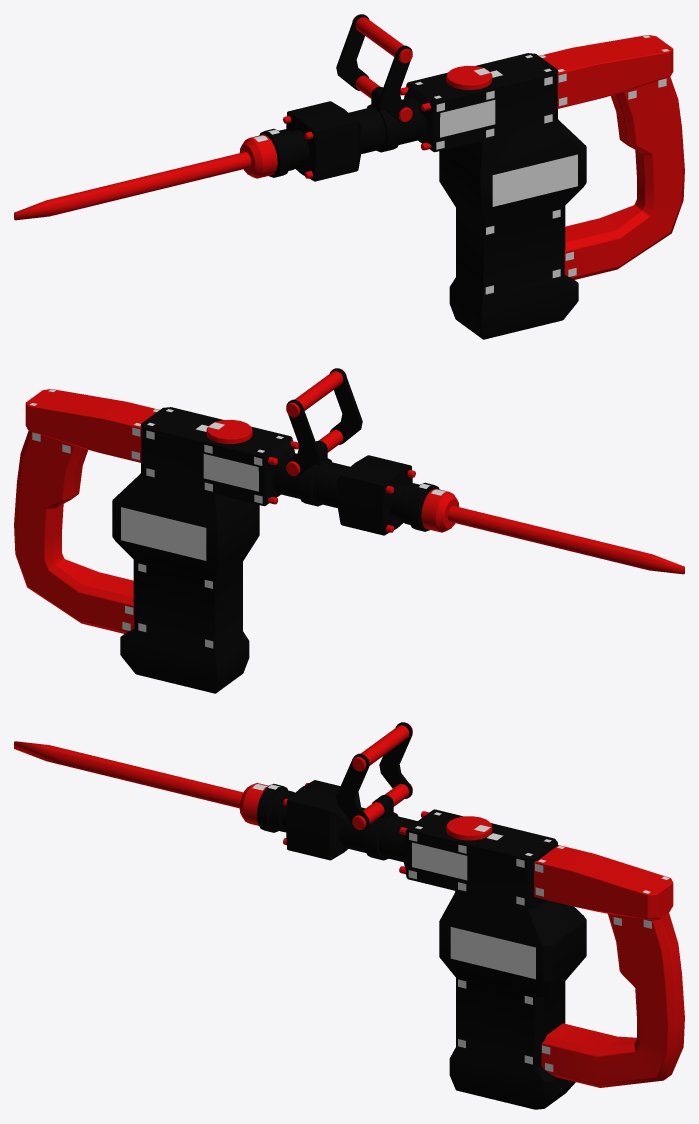
The model's file is hammerdrill-v2.glb.
3 renders of one model, top to bottom at view 1: azimuth 30°, elevation 25°; view 2: azimuth 150°, elevation 25°; view 3: azimuth 330°, elevation 25°, orthographic.
Parts seen in each view (by area): view 1: hammerdrill, hammerdrill_decals, hammerdrill_chiselflat; view 2: hammerdrill, hammerdrill_decals, hammerdrill_chiselflat; view 3: hammerdrill, hammerdrill_decals, hammerdrill_chiselflat.
Boxes of the visible parts, x1,y1,x2,y2 form: hammerdrill: [239, 14, 684, 339]; hammerdrill_decals: [253, 35, 669, 294]; hammerdrill_chiselflat: [14, 152, 251, 220]; hammerdrill: [14, 368, 459, 693]; hammerdrill_decals: [29, 389, 446, 648]; hammerdrill_chiselflat: [447, 506, 684, 574]; hammerdrill: [239, 722, 684, 1109]; hammerdrill_decals: [252, 784, 669, 1071]; hammerdrill_chiselflat: [14, 741, 243, 808].
Bounding box in the file's own units: 0.7554 × 0.3473 × 0.0953.
